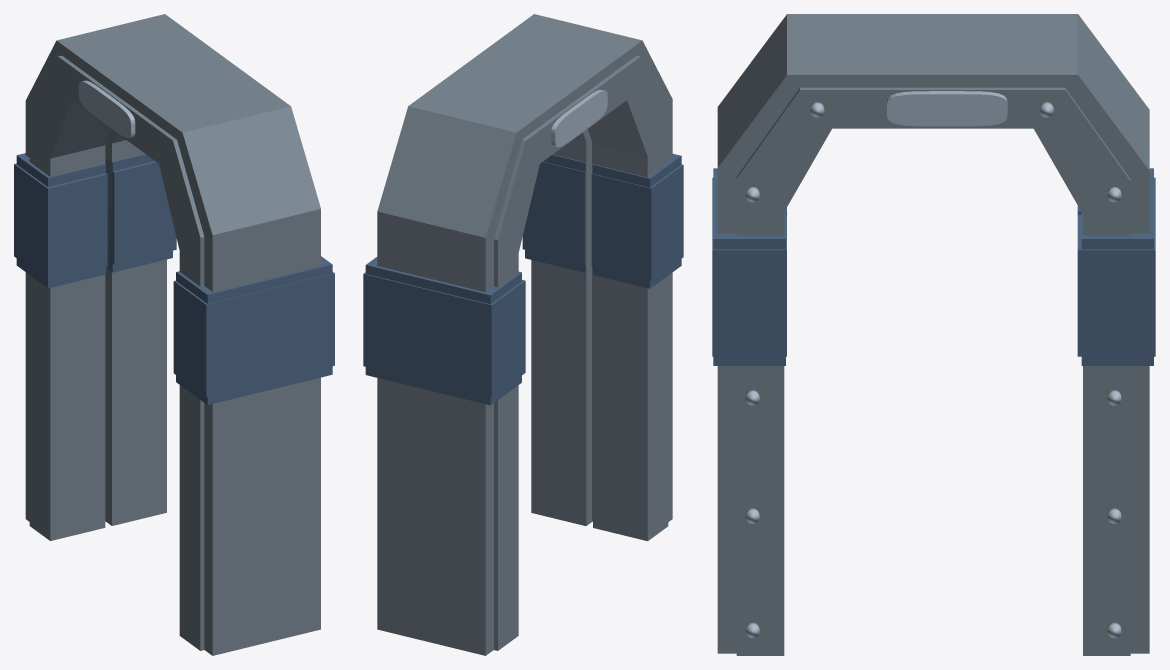
File: ドア枠.fbx
3 views of the same model, side by side, from view 1: azimuth 30°, elevation 25°; view 2: azimuth 150°, elevation 25°; view 3: azimuth 270°, elevation 25° (orthographic). The views are drawn at different scales.
Parts seen in each view (by area): view 1: 立方体.002, 立方体.007, 立方体.005, 立方体.008, 立方体.009; view 2: 立方体.002, 立方体.007, 立方体.008, 立方体.005, 立方体.009; view 3: 立方体.002, 立方体.007, 立方体.008, 立方体.005, 立方体.012.
Boxes of the visible parts, x1,y1,x2,y2 form: 立方体.002: (25,14,320,655); 立方体.007: (29,55,204,650); 立方体.005: (173,256,334,405); 立方体.008: (14,153,176,288); 立方体.009: (78,80,135,138); 立方体.002: (377,14,672,655); 立方体.007: (494,55,668,650); 立方体.008: (363,257,525,405); 立方体.005: (522,154,683,288); 立方体.009: (551,89,607,147); 立方体.002: (717,14,1149,653); 立方体.007: (736,87,1130,655); 立方体.008: (1077,168,1155,365); 立方体.005: (712,168,786,365); 立方体.012: (887,91,1007,126).
Size of the model in its own units: 2.74 by 10.18 by 7.07.
